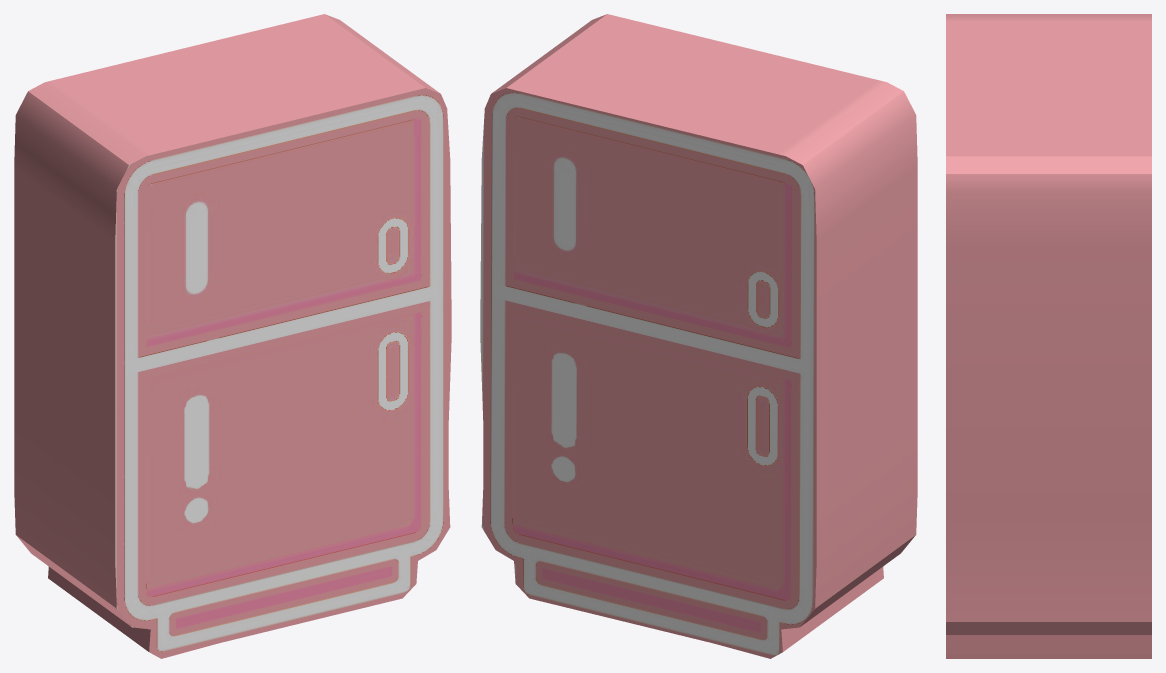
Rendered from Fridge FBX 1.fbx.
3 views of the same model, side by side, from view 1: azimuth 30°, elevation 25°; view 2: azimuth 150°, elevation 25°; view 3: azimuth 270°, elevation 25° (orthographic).
Visible parts, largest first — view 1: polySurface1; view 2: polySurface1; view 3: polySurface1.
Part boxes in pixels (x1,y1,x2,y2): polySurface1: [14, 14, 451, 658]; polySurface1: [480, 14, 917, 658]; polySurface1: [946, 14, 1151, 658].
Size of the model in its own units: 4.01 by 5.77 by 2.09.
1 material, 1 textured.
